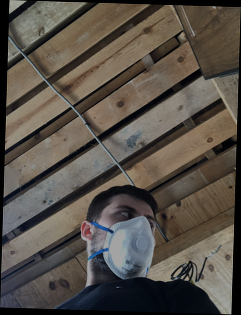with_mask: (106, 202, 156, 280)
